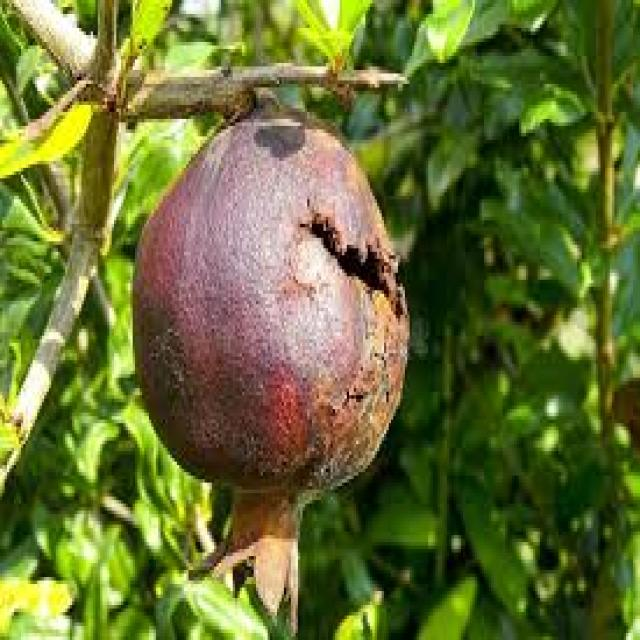Pomegranate: (140, 129, 405, 548)
